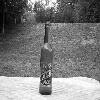beer: (39, 20, 54, 100)
